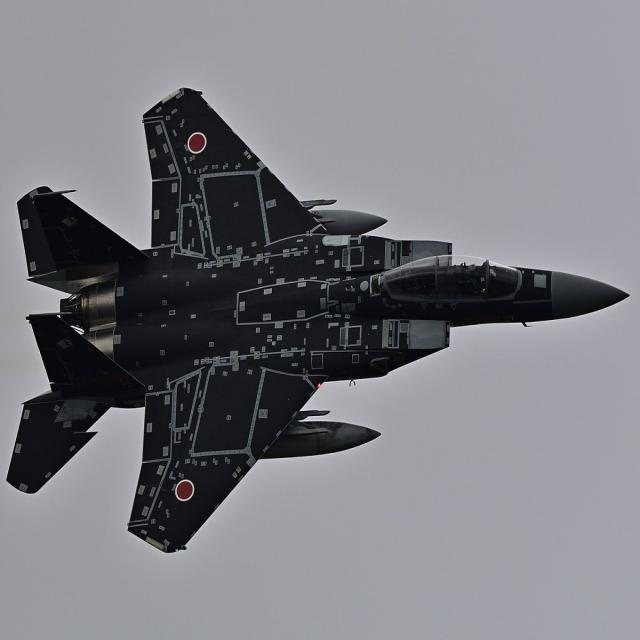MIL_Plane: (6, 87, 630, 553)
